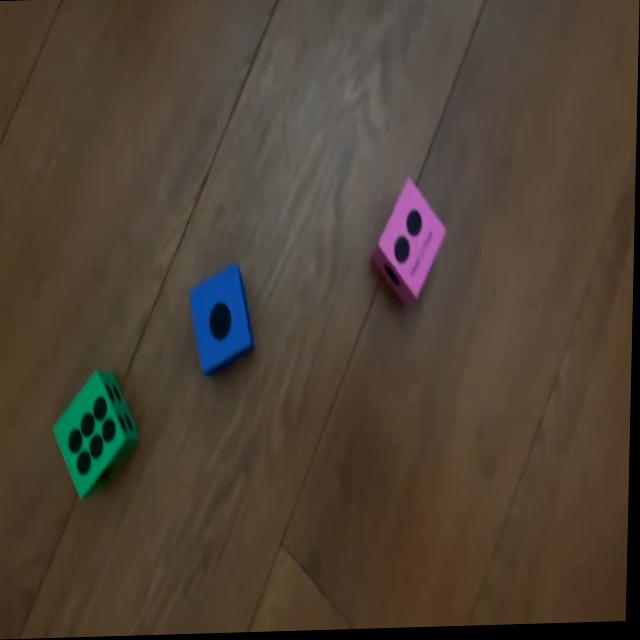blue_block: (190, 262, 256, 378)
